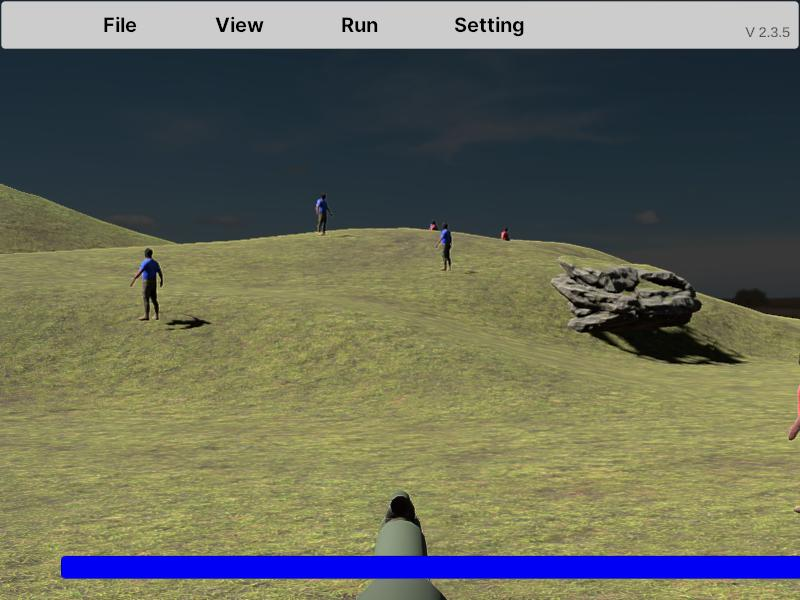Human: (786, 346, 800, 516), (131, 247, 163, 321)
